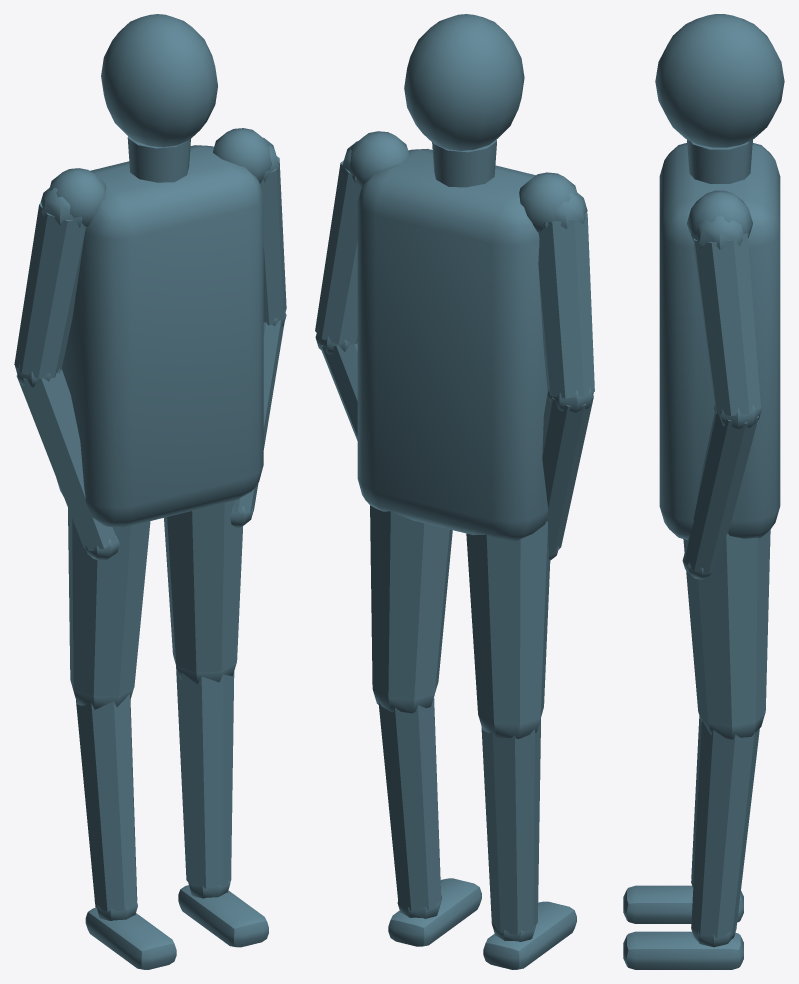
File: person-standing.glb
3 views of the same model, side by side, from view 1: azimuth 30°, elevation 25°; view 2: azimuth 150°, elevation 25°; view 3: azimuth 270°, elevation 25° (orthographic). The views are drawn at different scales.
Parts seen in each view (by area): view 1: person-standing; view 2: person-standing; view 3: person-standing.
Part boxes in pixels (x1,y1,x2,y2): person-standing: [14, 14, 286, 969]; person-standing: [315, 14, 594, 969]; person-standing: [623, 14, 784, 969].
Size of the model in its own units: 0.52 by 1.69 by 0.2671.
